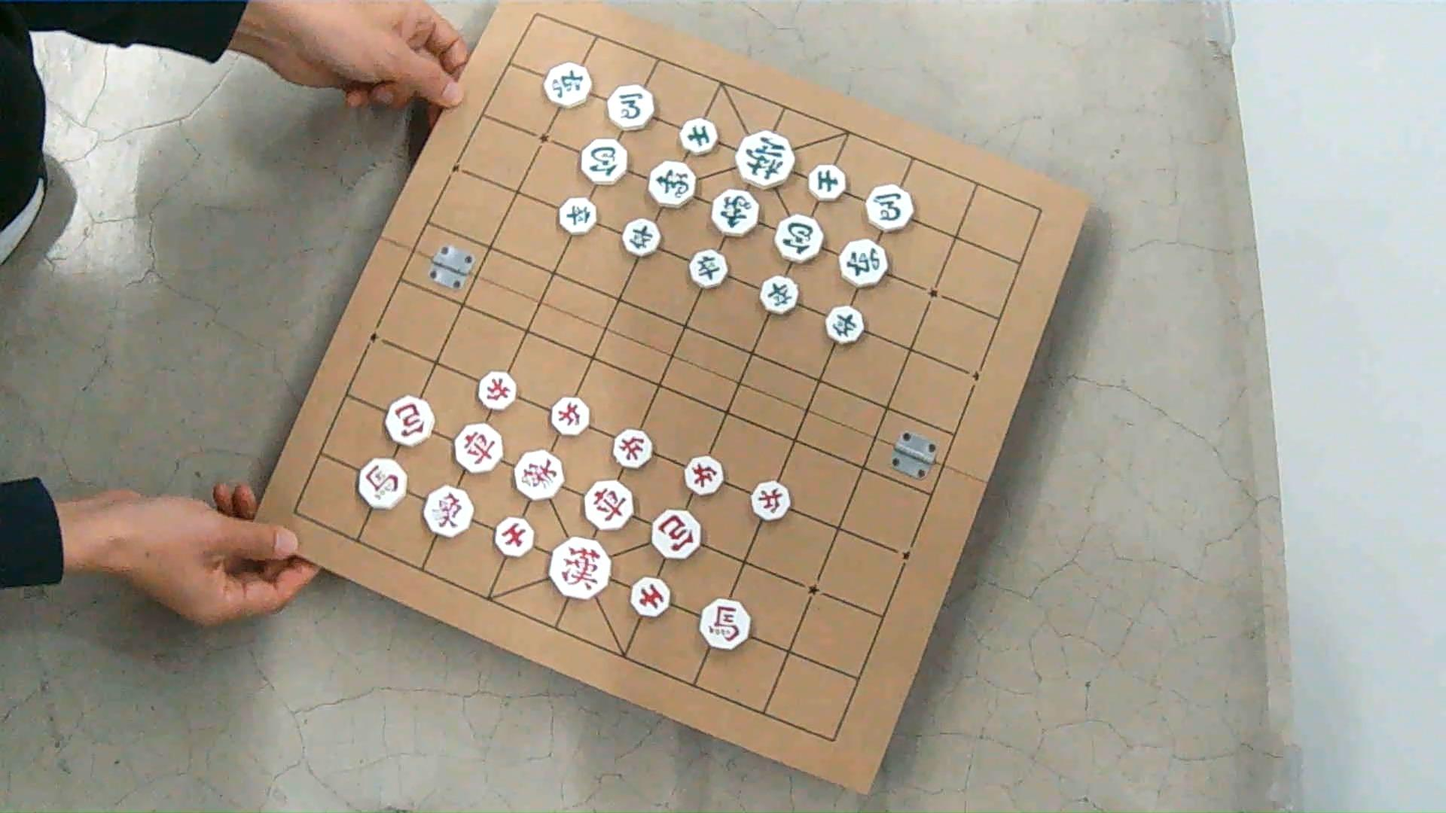cha_green: (840, 239, 889, 287), (544, 62, 590, 107)
cha_red: (584, 480, 633, 529), (454, 424, 502, 473)
jol_green: (688, 250, 728, 288), (760, 276, 799, 314), (622, 218, 660, 256), (826, 306, 865, 343), (558, 197, 596, 234)
jol_red: (612, 428, 652, 468), (477, 371, 516, 411), (684, 455, 723, 495), (752, 481, 791, 520), (551, 397, 590, 436)
ma_green: (865, 184, 914, 231), (608, 84, 654, 129)
ma_red: (700, 599, 750, 649), (358, 458, 406, 508)
po_green: (776, 215, 823, 262), (580, 139, 627, 184)
po_red: (651, 510, 700, 559), (386, 396, 432, 446)
sa_green: (807, 164, 846, 201), (680, 118, 717, 155)
sa_red: (629, 577, 670, 617), (494, 516, 532, 556)
sang_green: (648, 161, 695, 208), (712, 189, 759, 236)
sang_red: (424, 486, 472, 537), (514, 450, 563, 499)
wang_green: (735, 130, 794, 188)
wang_red: (549, 537, 610, 599)
